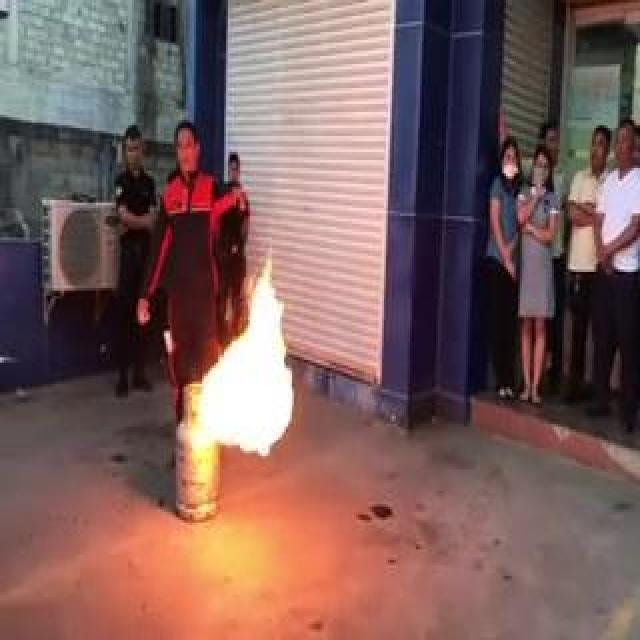Smoke: (191, 259, 295, 458)
